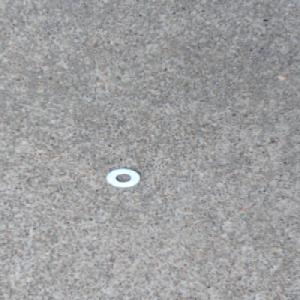Washer: (104, 166, 142, 188)
